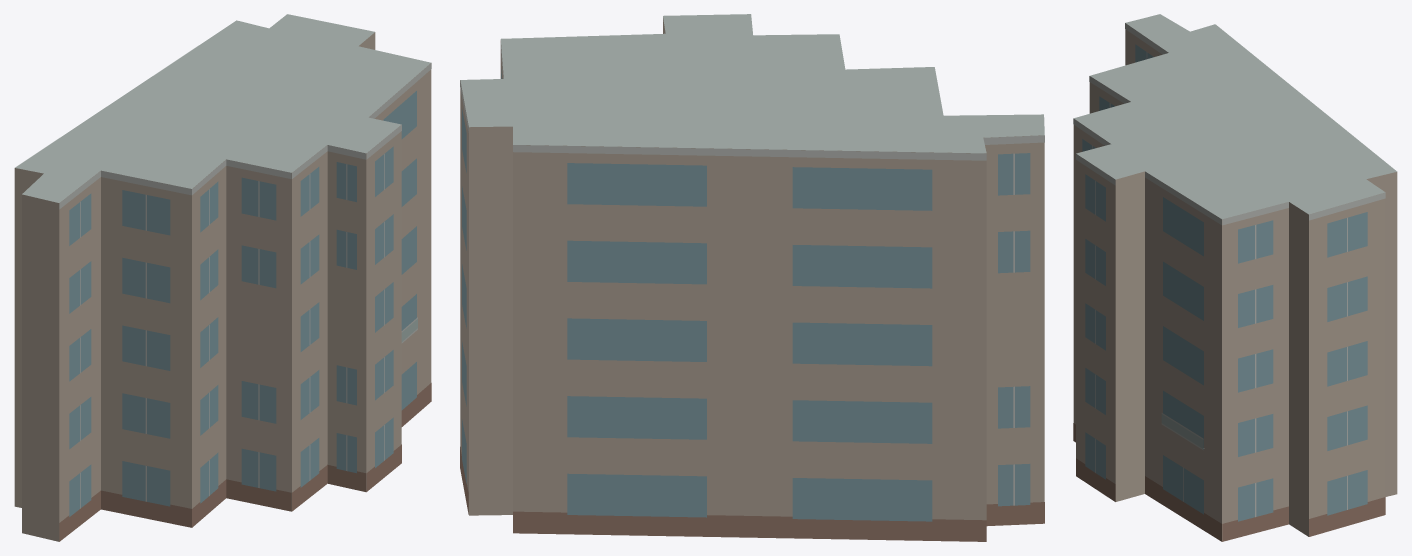
File: survey-upis-32976456.glb
The picture shows the model from 3 angles, left to right: view 1: azimuth 30°, elevation 25°; view 2: azimuth 150°, elevation 25°; view 3: azimuth 270°, elevation 25°; orthographic projection. The views are drawn at different scales.
Parts seen in each view (by area): view 1: survey-upis-32976456.tmp; view 2: survey-upis-32976456.tmp; view 3: survey-upis-32976456.tmp.
Part boxes in pixels (x1=…): survey-upis-32976456.tmp: x1=14, y1=14, x2=431, y2=541; survey-upis-32976456.tmp: x1=460, y1=14, x2=1044, y2=541; survey-upis-32976456.tmp: x1=1073, y1=14, x2=1397, y2=541.
Bounding box in the file's own units: 17.62 × 12.9 × 11.75.
